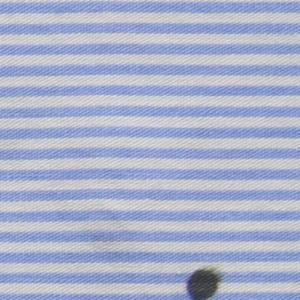Stain: (186, 267, 227, 300)
